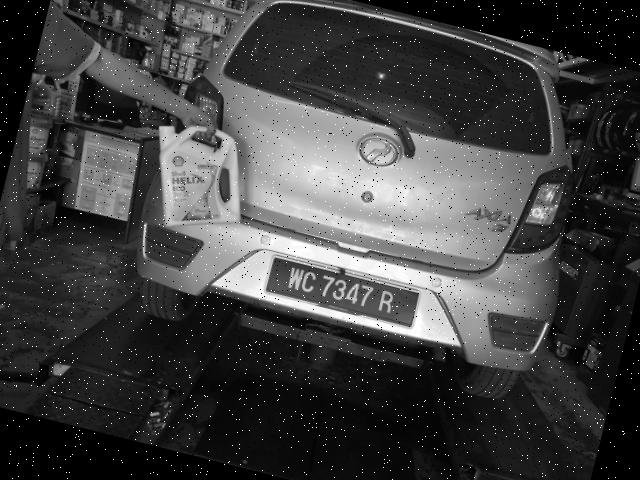License_Plate: (264, 255, 423, 331)
car: (122, 1, 620, 412)
